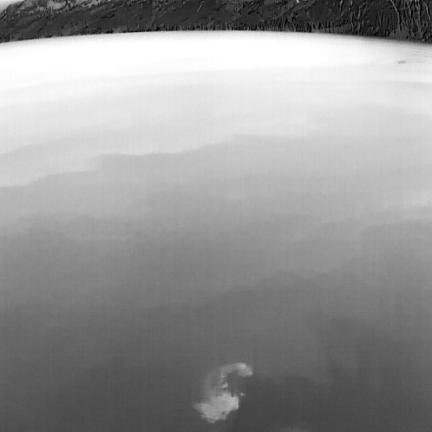flukeprints: (194, 390, 239, 422), (226, 362, 252, 374)
